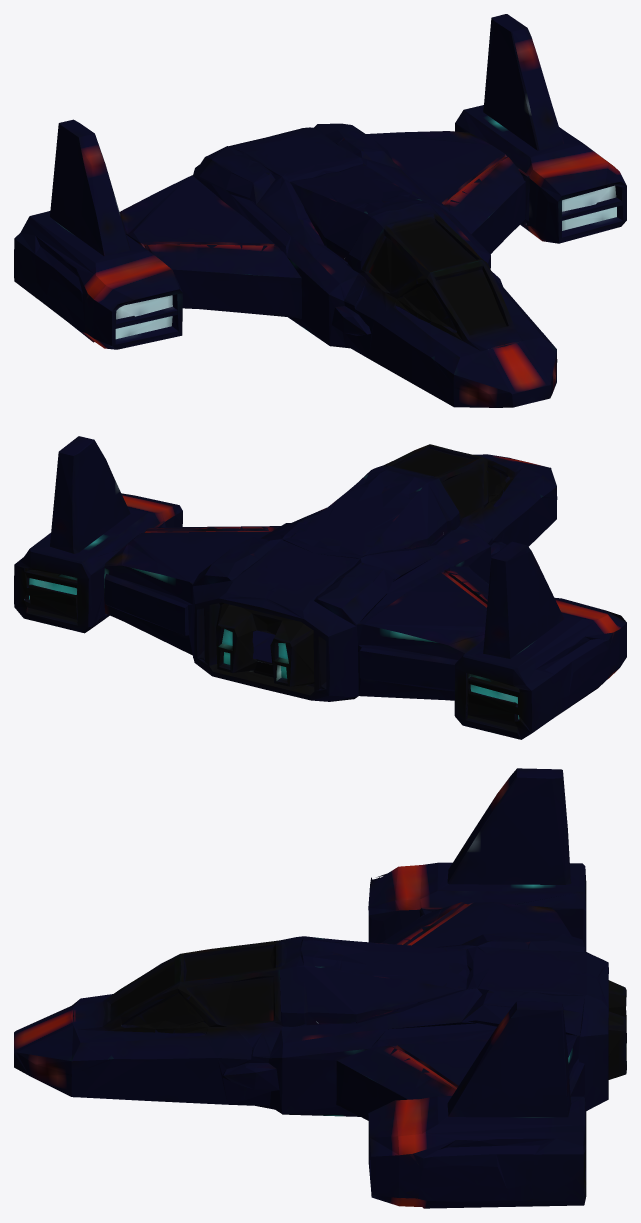
3 views of the same model, one above another, from view 1: azimuth 30°, elevation 25°; view 2: azimuth 150°, elevation 25°; view 3: azimuth 270°, elevation 25° (orthographic). The views are drawn at different scales.
Parts seen in each view (by area): view 1: world; view 2: world; view 3: world.
Part boxes in pixels (x1=…): world: x1=14, y1=14, x2=626, y2=407; world: x1=14, y1=436, x2=626, y2=739; world: x1=14, y1=768, x2=626, y2=1208.
Size of the model in its own units: 1 by 0.3199 by 0.9201.
1 material, 1 textured.
